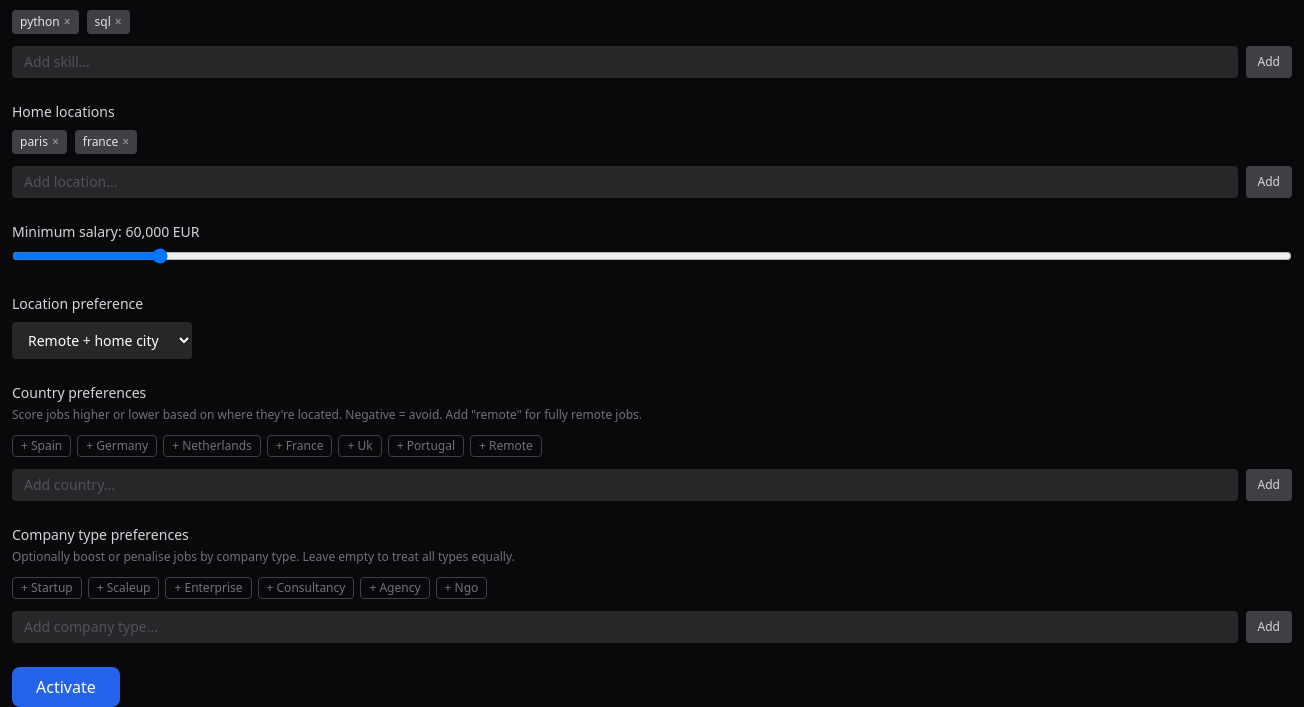
Test case: shows error when save fails
The image size is (1304, 707).
(page scrolled)
Click the button "Activate" at (66, 687), box [12,667,120,706]
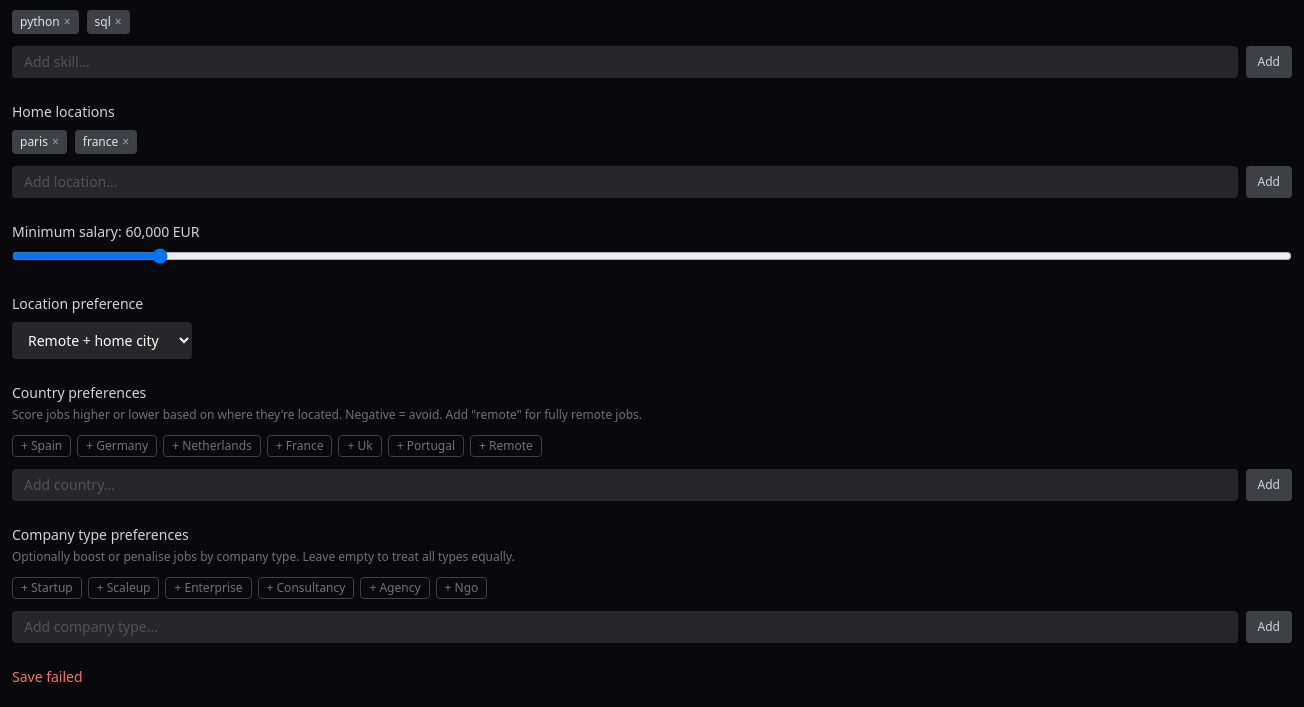
Expected: the text "Save failed" is shown, [12,667,83,686]
